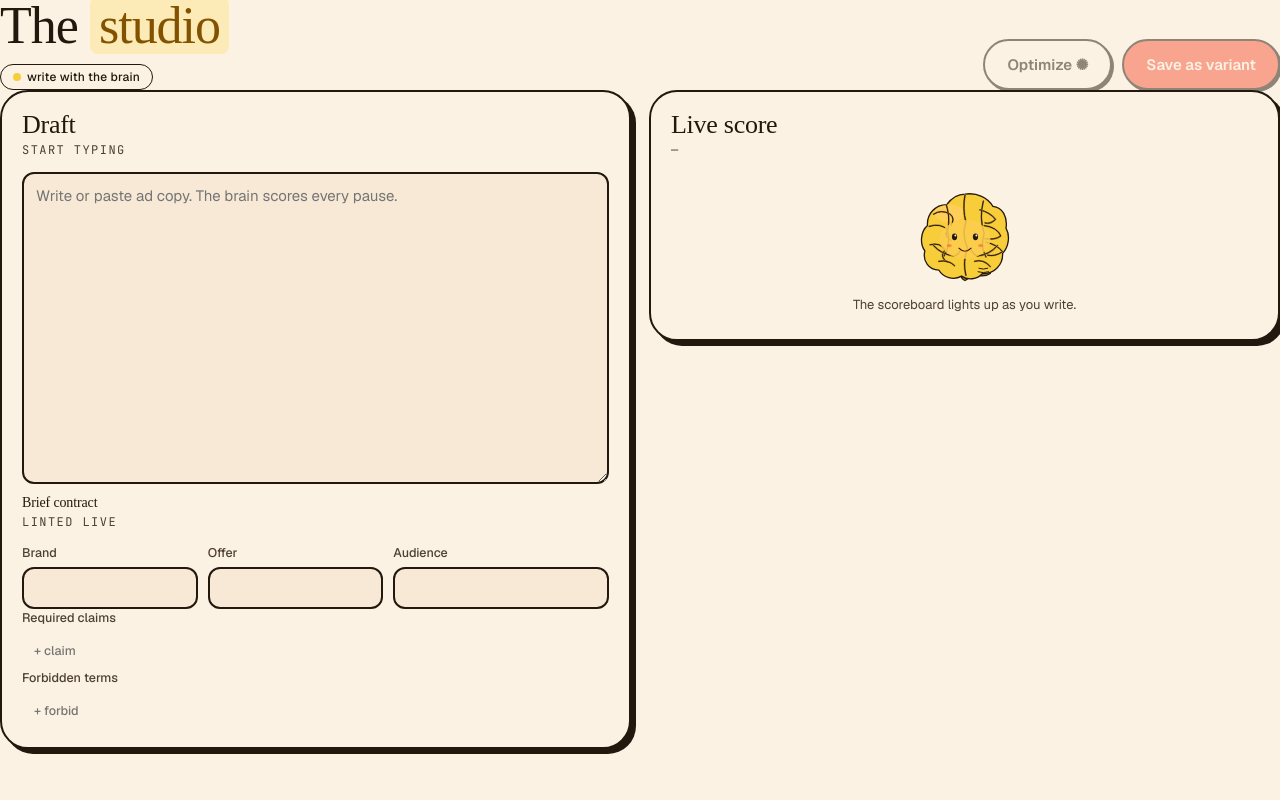
Test: StudioView › runs the optimize ladder and applies a rung to the editor
The width and height of the screenshot is (1280, 800).
Type "A draft worth sparring with" into the text box named "ad copy draft". click: (316, 328)
box: [22,172,609,484]
Wait 700 ms
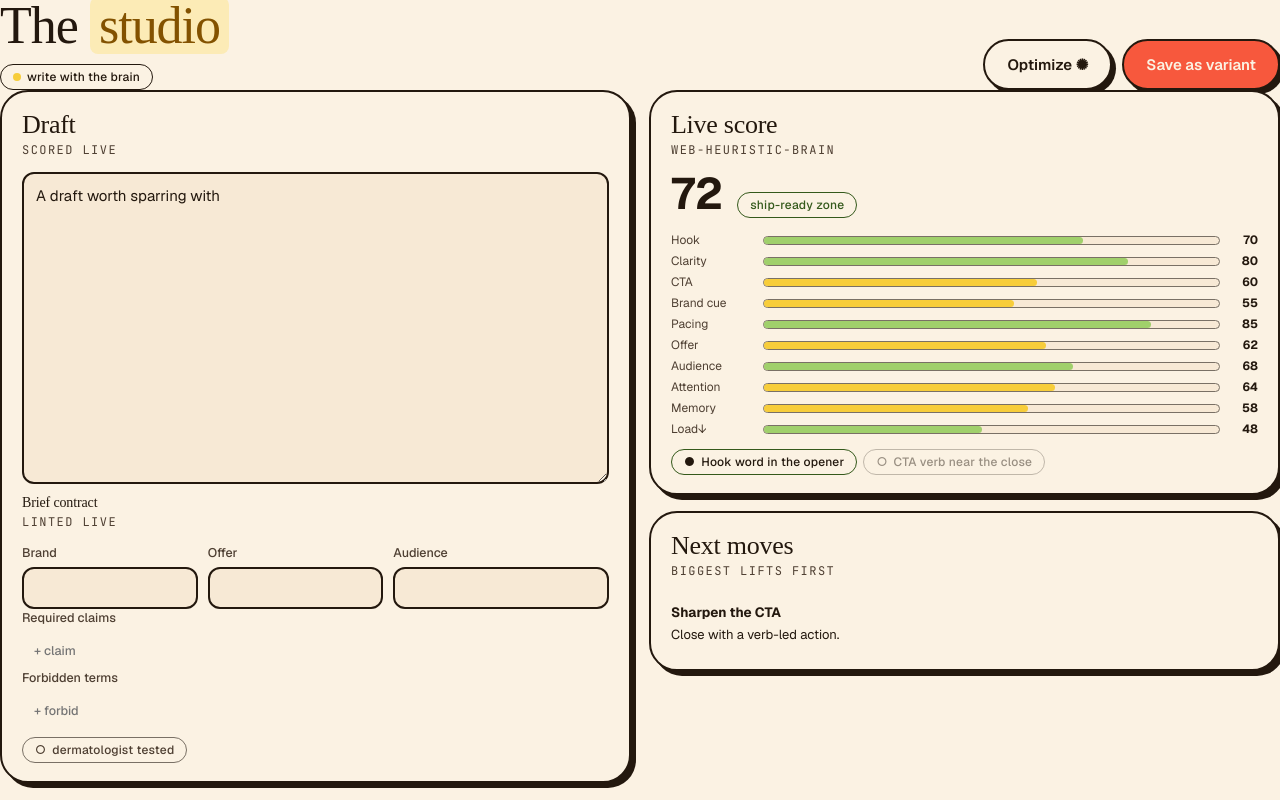
Click the button "Optimize ✺". click: (1048, 64)
box: [983,39,1112,90]
(page scrolled)
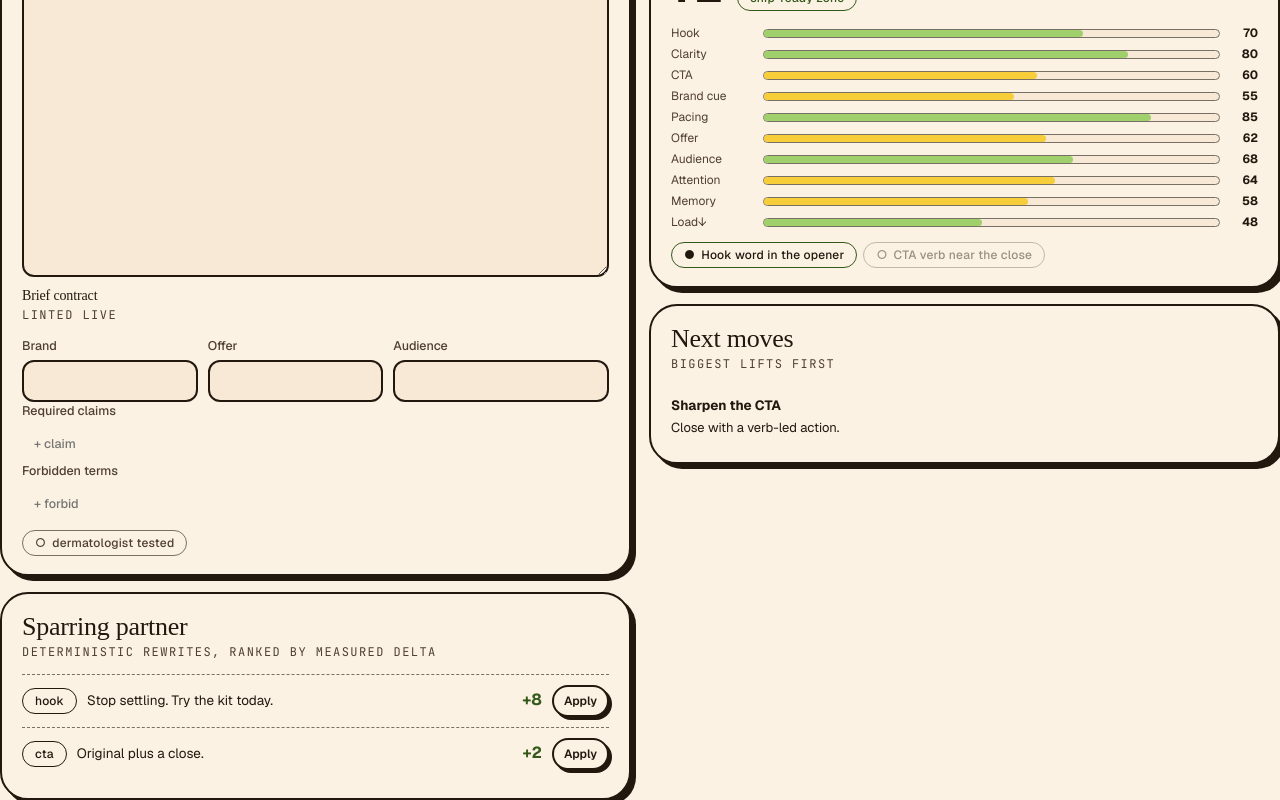
Result: the heading "Sparring partner" is shown at [22,612,188,641]
Result: the text "+8" is shown at [522,689,542,710]
Click the button "Apply" in the row of "Stop settling. Try the kit today.". click: (580, 701)
box: [552,685,609,717]
(page scrolled)
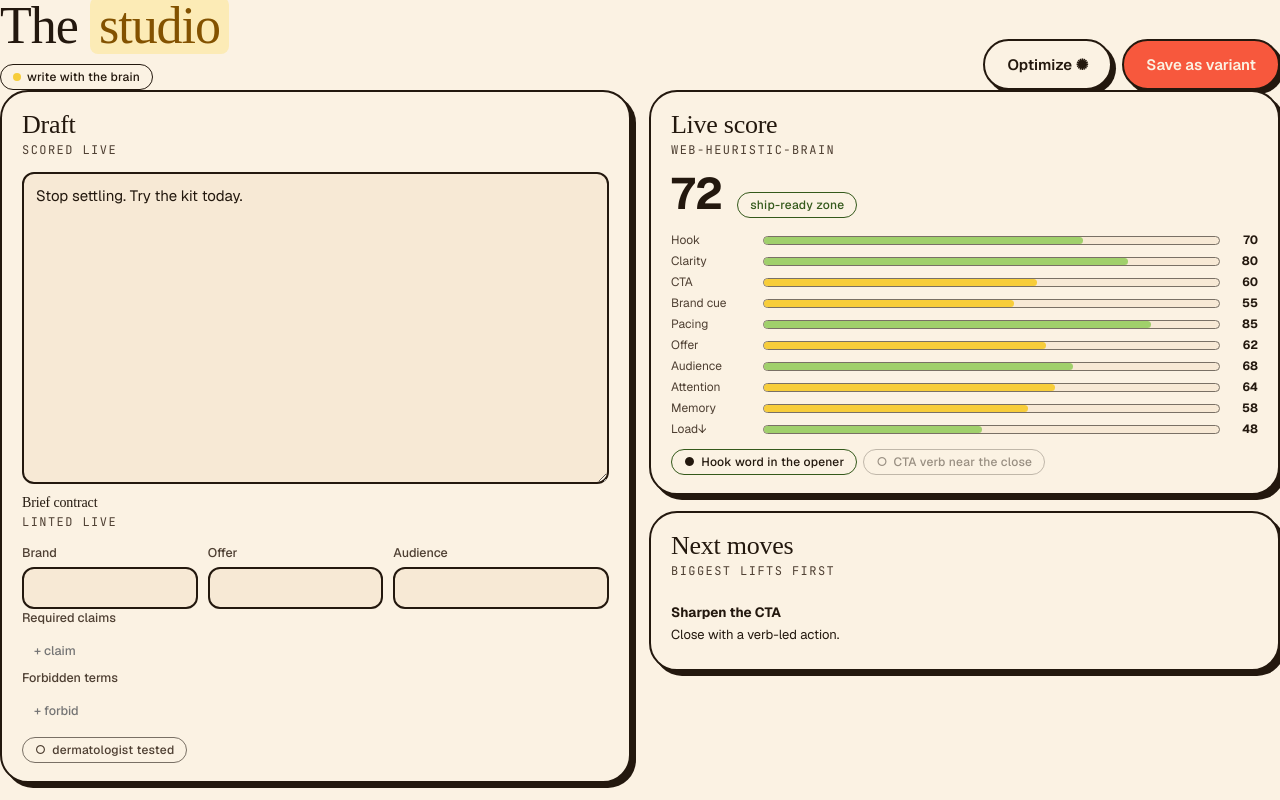
Result: the text box named "ad copy draft" holds "Stop settling. Try the kit today." at [22,172,609,484]
